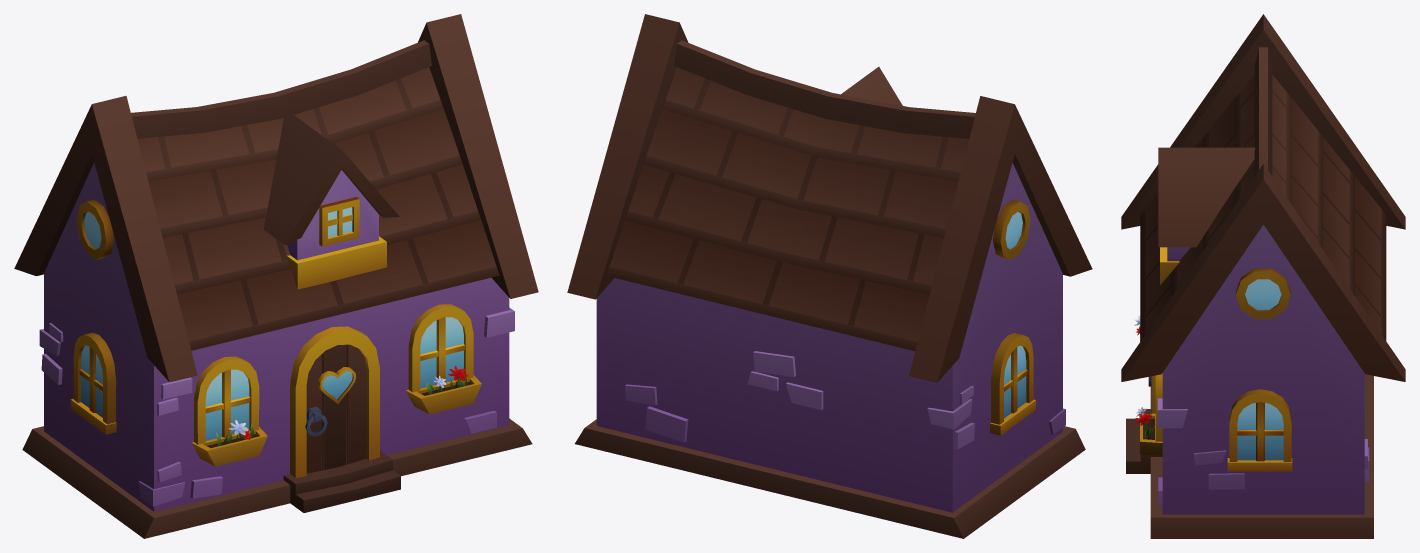
Rendered from House_01B.fbx.
3 views of the same model, side by side, from view 1: azimuth 30°, elevation 25°; view 2: azimuth 150°, elevation 25°; view 3: azimuth 270°, elevation 25° (orthographic). The views are drawn at different scales.
Parts seen in each view (by area): view 1: House_01B; view 2: House_01B; view 3: House_01B.
Boxes of the visible parts, x1,y1,x2,y2 form: House_01B: (14,14,538,538); House_01B: (567,14,1092,538); House_01B: (1121,14,1405,538).
Bounding box in the file's own units: 718 × 684 × 496.
5 materials, 5 textured.
